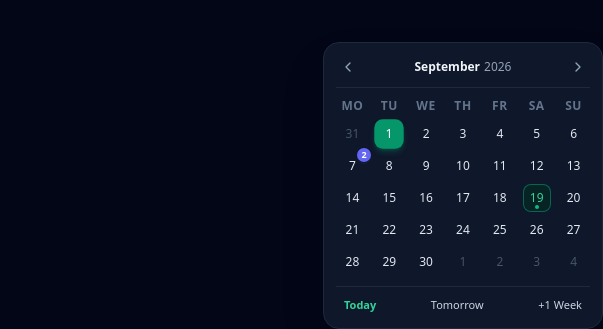
Scenario: CalendarPicker - AU Capacity & Reality Check Integration › places workload panel on the left (right-full) when align="right" to avoid clipping
This screenshot has width=603, height=329.
(page scrolled)
Click the button with test id "task-balloon-2026-09-07".
click(364, 155)  # box [357,148,371,162]
(page scrolled)
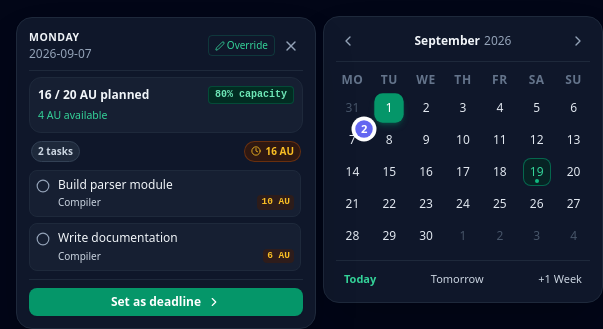
Check: the element with test id "calendar-workload-preview" is shown, box [16,17,316,328]
